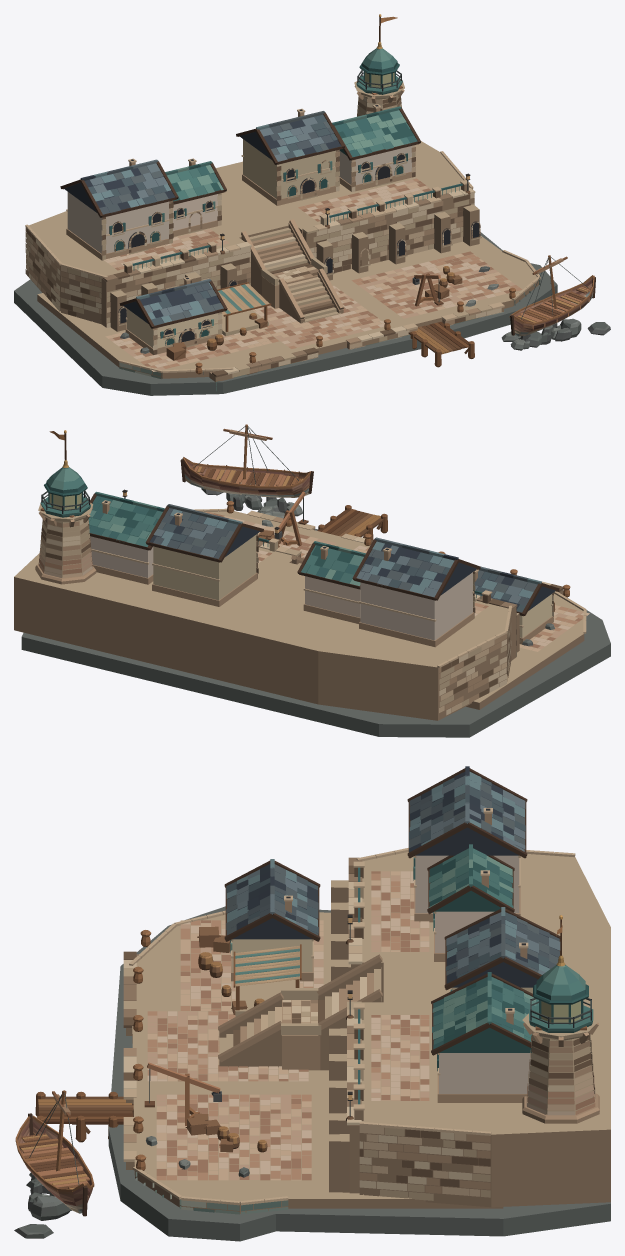
Rendered from moonwash-harbor-regional.glb.
The picture shows the model from 3 angles, top to bottom: view 1: azimuth 30°, elevation 25°; view 2: azimuth 150°, elevation 25°; view 3: azimuth 270°, elevation 25°; orthographic projection. The views are drawn at different scales.
Parts seen in each view (by area): view 1: 01 · Two-level sandstone quay and steep retaining stairs | R, 02 · Tidefall terraced houses and pilot workshops | Regional, 04 · Static stranded offshore hull and quayside works | Regi, 05 · Pilot mast, wall landing details and splintered cargo |, 03 · Octagonal maritime pilot tower | Regional; view 2: 01 · Two-level sandstone quay and steep retaining stairs | R, 02 · Tidefall terraced houses and pilot workshops | Regional, 03 · Octagonal maritime pilot tower | Regional, 04 · Static stranded offshore hull and quayside works | Regi, 05 · Pilot mast, wall landing details and splintered cargo |; view 3: 01 · Two-level sandstone quay and steep retaining stairs | R, 02 · Tidefall terraced houses and pilot workshops | Regional, 03 · Octagonal maritime pilot tower | Regional, 04 · Static stranded offshore hull and quayside works | Regi, 05 · Pilot mast, wall landing details and splintered cargo |.
Part boxes in pixels (x1,y1,x2,y2): 01 · Two-level sandstone quay and steep retaining stairs | R: (14, 141, 557, 395); 02 · Tidefall terraced houses and pilot workshops | Regional: (60, 104, 420, 354); 04 · Static stranded offshore hull and quayside works | Regi: (501, 255, 610, 350); 05 · Pilot mast, wall landing details and splintered cargo |: (120, 173, 515, 374); 03 · Octagonal maritime pilot tower | Regional: (354, 14, 404, 116); 01 · Two-level sandstone quay and steep retaining stairs | R: (14, 505, 610, 737); 02 · Tidefall terraced houses and pilot workshops | Regional: (88, 491, 559, 647); 03 · Octagonal maritime pilot tower | Regional: (35, 430, 96, 584); 04 · Static stranded offshore hull and quayside works | Regi: (180, 424, 313, 518); 05 · Pilot mast, wall landing details and splintered cargo |: (122, 489, 570, 646); 01 · Two-level sandstone quay and steep retaining stairs | R: (35, 848, 610, 1241); 02 · Tidefall terraced houses and pilot workshops | Regional: (224, 766, 560, 1102); 03 · Octagonal maritime pilot tower | Regional: (522, 915, 599, 1123); 04 · Static stranded offshore hull and quayside works | Regi: (14, 1090, 94, 1238); 05 · Pilot mast, wall landing details and splintered cargo |: (133, 914, 353, 1177).
Bounding box in the file's own units: 63.43 × 26.67 × 49.91.
Materials: 1 (1 with a texture image).
